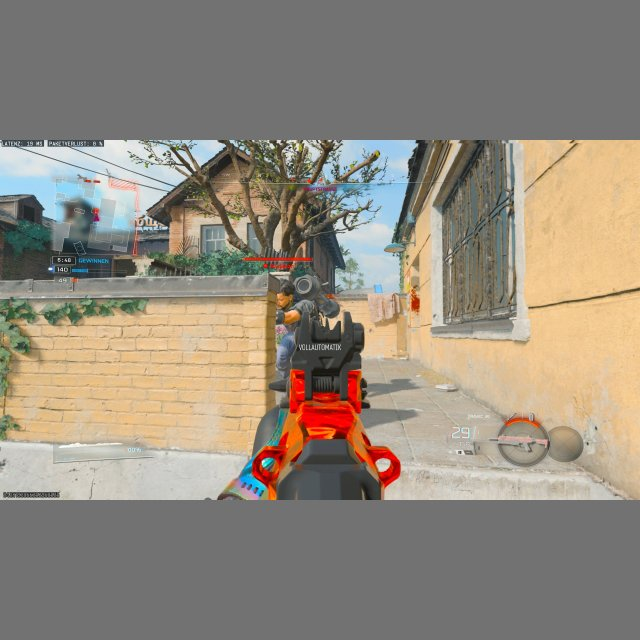head: (279, 282, 294, 303)
player: (275, 278, 302, 381)
